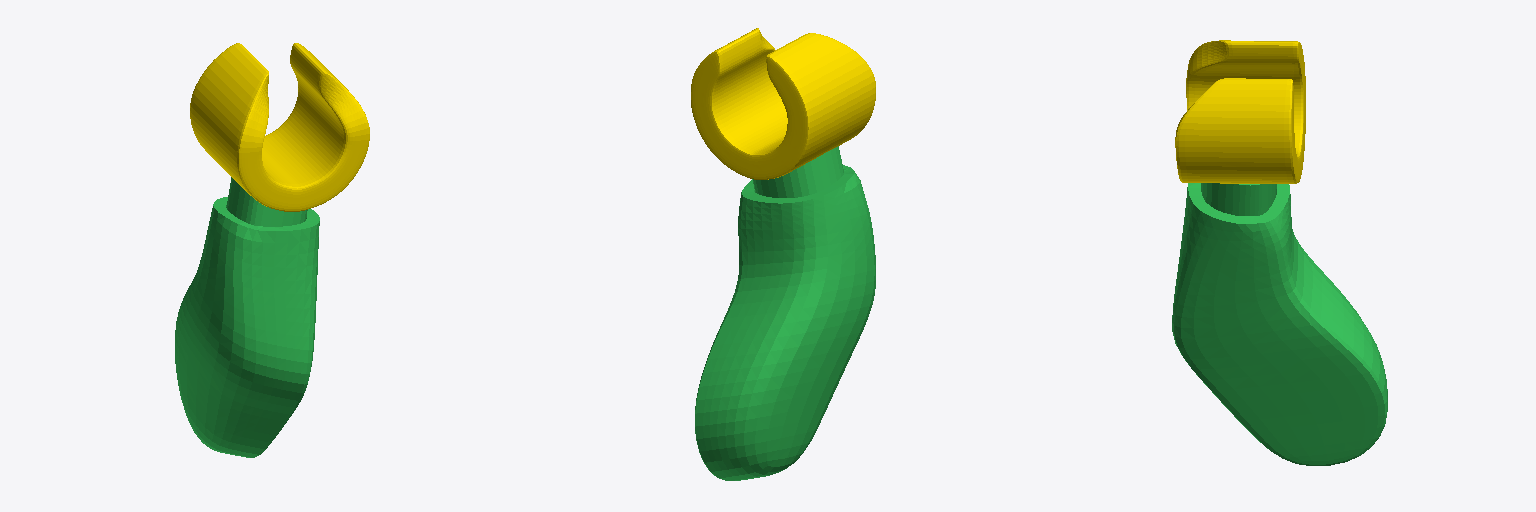
The picture shows the model from 3 angles: view 1: azimuth 30°, elevation 25°; view 2: azimuth 150°, elevation 25°; view 3: azimuth 270°, elevation 25°; orthographic projection.
Parts seen in each view (by area): view 1: rightArm:BrazoDerecho1; view 2: rightArm:BrazoDerecho1; view 3: rightArm:BrazoDerecho1.
Part boxes in pixels (bbox=[...]): rightArm:BrazoDerecho1: bbox=[175, 43, 369, 457]; rightArm:BrazoDerecho1: bbox=[691, 28, 875, 480]; rightArm:BrazoDerecho1: bbox=[1172, 40, 1387, 465].
Size of the model in its own units: 0.9438 by 2.62 by 1.23.
Materials: 2 (2 with a texture image).